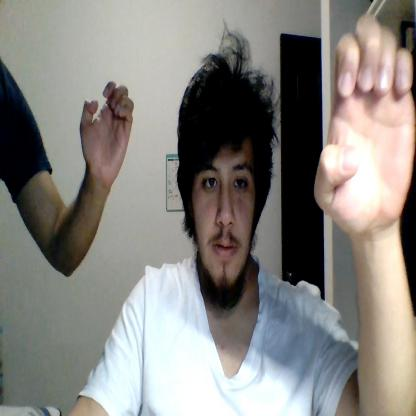E: (313, 13, 416, 233), (79, 79, 133, 184)
